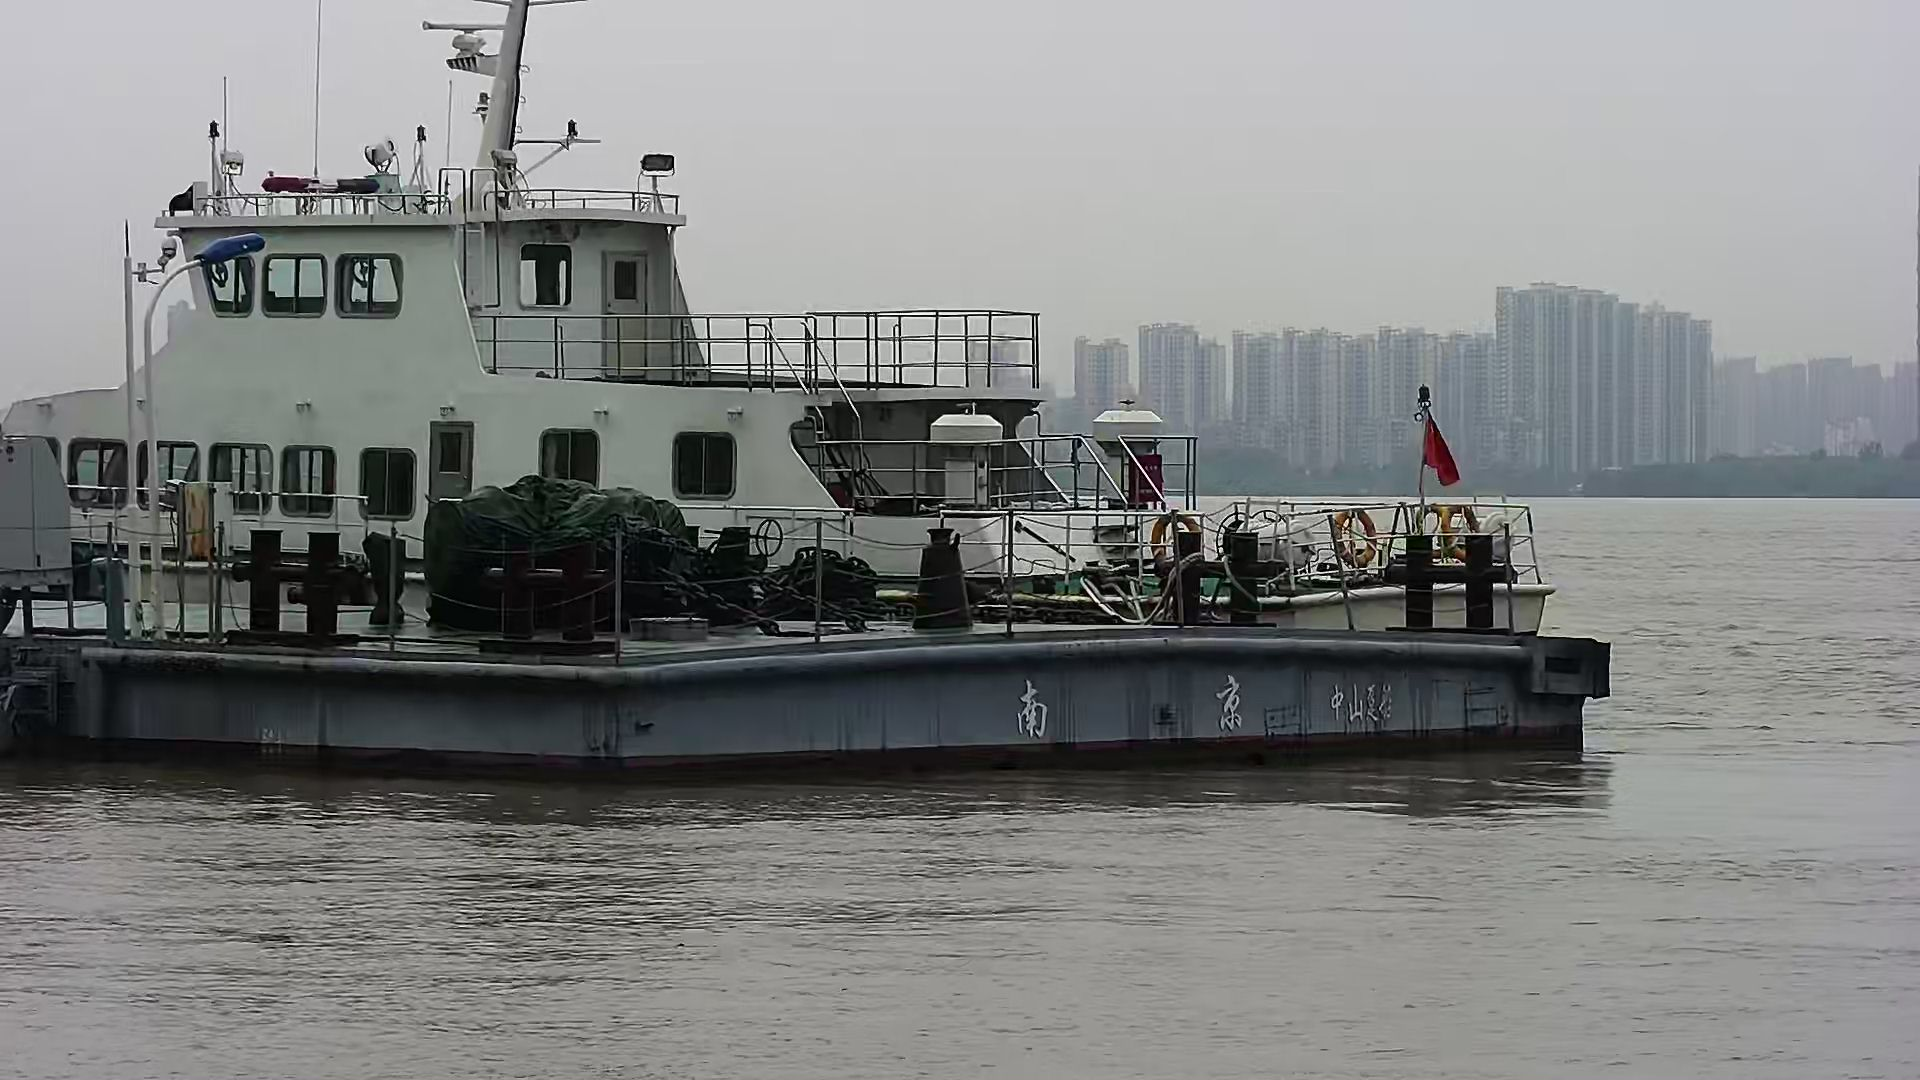ship: (3, 4, 1610, 774)
